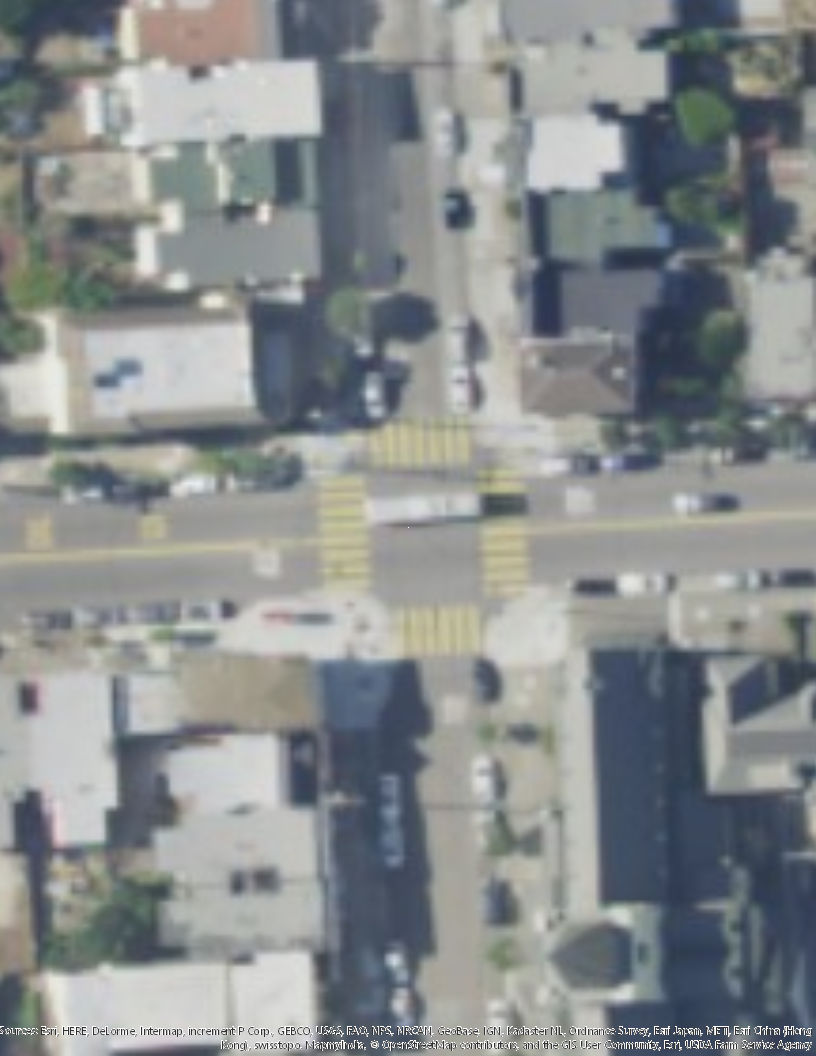zebracross: (474, 472, 539, 591), (314, 475, 376, 593), (368, 412, 470, 470), (397, 604, 491, 652)
